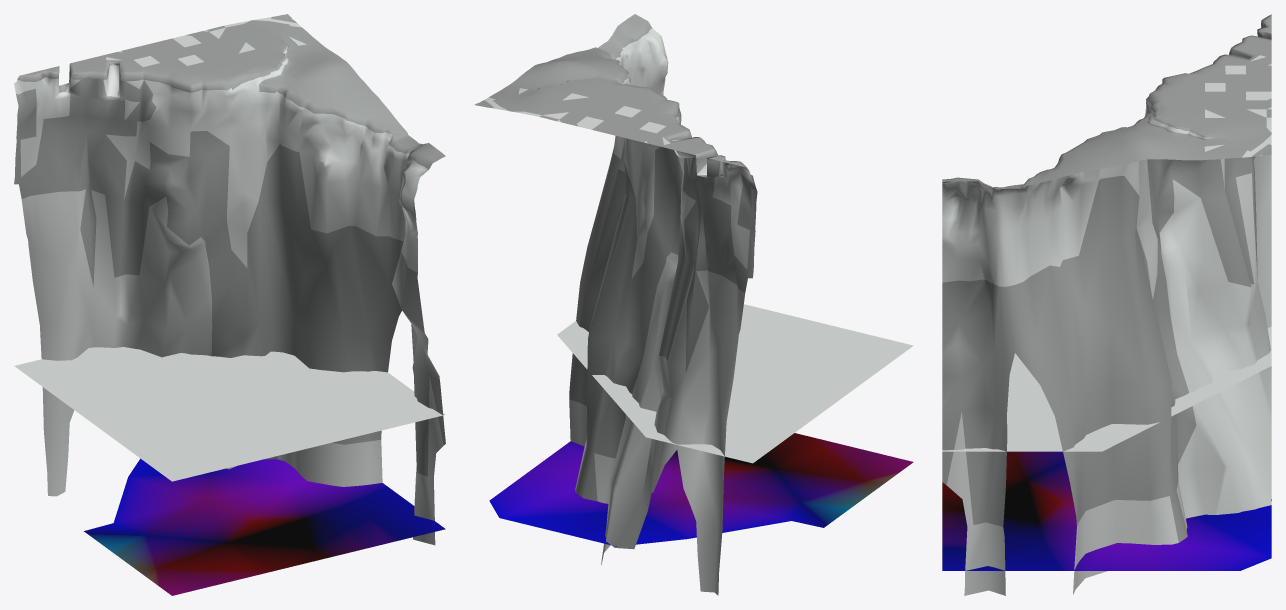
3 views of the same model, side by side, from view 1: azimuth 30°, elevation 25°; view 2: azimuth 150°, elevation 25°; view 3: azimuth 270°, elevation 25° (orthographic). The views are drawn at different scales.
Visible parts, largest first — view 1: G:\FFXIV-MapTools\exports\w1f5\bg\ffxiv\wil_w1\fld\w1f5\bgpl (×13); view 2: G:\FFXIV-MapTools\exports\w1f5\bg\ffxiv\wil_w1\fld\w1f5\bgpl (×10); view 3: G:\FFXIV-MapTools\exports\w1f5\bg\ffxiv\wil_w1\fld\w1f5\bgpl (×13).
Part boxes in pixels (x1,y1,x2,y2): G:\FFXIV-MapTools\exports\w1f5\bg\ffxiv\wil_w1\fld\w1f5\bgpl (×13): (14,14,445,595); G:\FFXIV-MapTools\exports\w1f5\bg\ffxiv\wil_w1\fld\w1f5\bgpl (×10): (474,14,913,595); G:\FFXIV-MapTools\exports\w1f5\bg\ffxiv\wil_w1\fld\w1f5\bgpl (×13): (942,14,1271,595).
Size of the model in its own units: 128 by 191 by 128.
